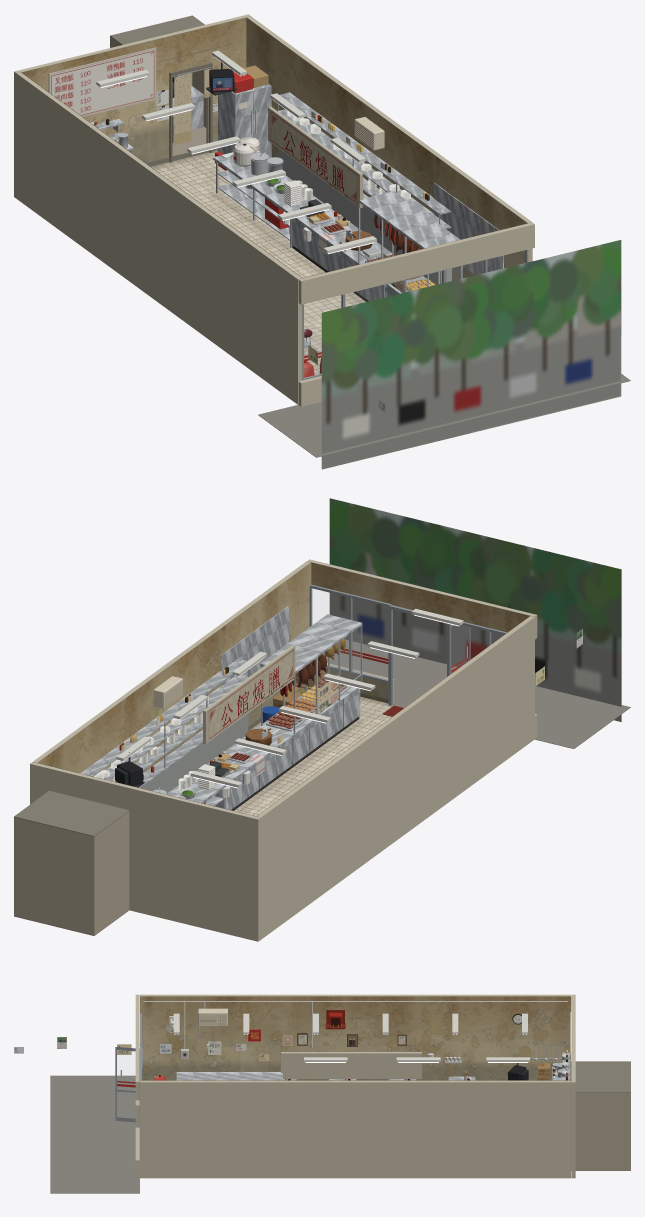
File: shaola_interior.glb
The picture shows the model from 3 angles, top to bottom: view 1: azimuth 30°, elevation 25°; view 2: azimuth 150°, elevation 25°; view 3: azimuth 270°, elevation 25°; orthographic projection. The views are drawn at different scales.
Parts seen in each view (by area): view 1: WALL_front_print, WALL_left_vc, sl_steel, WALL_right_wall, sl_vc, WALL_front_vc, WALL_back_wall, FLOOR, WALL_back_print, WALL_back_vc, sl_prints, WALL_right_vc (+4 smaller); view 2: WALL_left_vc, WALL_back_vc, WALL_front_print, sl_steel, WALL_right_wall, sl_vc, WALL_front_vc, WALL_front_wall, sl_prints, FLOOR, WALL_front_vm, sl_gloss (+4 smaller); view 3: WALL_right_vc, WALL_left_wall, WALL_front_vc, WALL_back_vc, sl_vc, WALL_left_vc, WALL_left_print, sl_steel, WALL_front_vm, WALL_right_wall.
Boxes of the visible parts, x1,y1,x2,y2 form: WALL_front_print: (321, 240, 621, 469); WALL_left_vc: (16, 72, 302, 404); sl_steel: (213, 84, 503, 331); WALL_right_wall: (246, 18, 527, 280); sl_vc: (96, 50, 451, 362); WALL_front_vc: (258, 222, 630, 457); WALL_back_wall: (22, 17, 246, 162); FLOOR: (151, 150, 365, 374); WALL_back_print: (50, 49, 217, 144); WALL_back_vc: (14, 14, 250, 198); sl_prints: (270, 110, 403, 292); WALL_right_vc: (247, 16, 532, 262); WALL_left_vc: (257, 616, 534, 939); WALL_back_vc: (14, 762, 260, 941); WALL_front_print: (329, 498, 621, 721); sl_steel: (80, 606, 362, 809); WALL_right_wall: (38, 563, 311, 773); sl_vc: (94, 608, 463, 810); WALL_front_vc: (307, 559, 630, 748); WALL_front_wall: (311, 562, 529, 703); sl_prints: (208, 648, 338, 777); FLOOR: (234, 696, 404, 816); WALL_front_vm: (309, 584, 507, 705); sl_gloss: (119, 639, 347, 798); WALL_right_vc: (140, 1080, 571, 1178); WALL_left_wall: (140, 996, 571, 1080); WALL_front_vc: (50, 994, 139, 1193); WALL_back_vc: (569, 994, 630, 1178); sl_vc: (159, 1013, 529, 1080); WALL_left_vc: (140, 994, 571, 1063); WALL_left_print: (14, 1015, 521, 1060); sl_steel: (176, 1072, 475, 1080); WALL_front_vm: (115, 1013, 142, 1122); WALL_right_wall: (140, 1080, 570, 1080).
Size of the model in its own units: 8.4 by 4 by 18.6.
12 materials, 6 textured.
